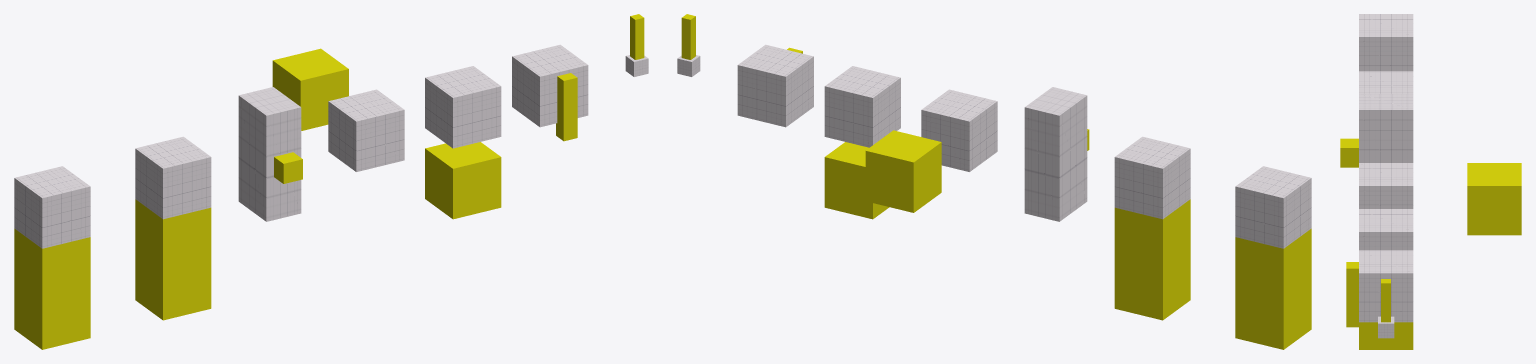
The model's file is JointTypes.gltf.
3 views of the same model, side by side, from view 1: azimuth 30°, elevation 25°; view 2: azimuth 150°, elevation 25°; view 3: azimuth 270°, elevation 25° (orthographic). The views are drawn at different scales.
Parts seen in each view (by area): view 1: Cube.006, Cube.010, Cube.008, Cube, Cube.003, Cube.011, Cube.012, Cube.009, Cube.002, Cube.005, Cube.001, Cube.004 (+3 smaller); view 2: Cube.006, Cube.009, Cube, Cube.003, Cube.012, Cube.010, Cube.008, Cube.002, Cube.005, Cube.001, Cube.004, Cube.011 (+1 smaller); view 3: Cube.009, Cube.006, Cube.012, Cube, Cube.008, Cube.010, Cube.011, Cube.003, Cube.015, Cube.007, Cube.014, Cube.013.
Part boxes in pixels (box(x1,y1,x2,y2)): Cube.006: box(238, 87, 301, 221); Cube.010: box(425, 66, 501, 148); Cube.008: box(328, 89, 404, 171); Cube: box(14, 166, 90, 248); Cube.003: box(135, 136, 211, 219); Cube.011: box(425, 142, 501, 219); Cube.012: box(512, 44, 588, 127); Cube.009: box(272, 48, 348, 130); Cube.002: box(14, 279, 90, 349); Cube.005: box(135, 250, 211, 320); Cube.001: box(14, 228, 90, 299); Cube.004: box(135, 199, 211, 269); Cube.006: box(1024, 87, 1087, 221); Cube.009: box(865, 130, 941, 212); Cube: box(1235, 166, 1311, 248); Cube.003: box(1114, 136, 1190, 219); Cube.012: box(737, 44, 813, 127); Cube.010: box(824, 66, 900, 147); Cube.008: box(921, 89, 997, 171); Cube.002: box(1235, 279, 1311, 349); Cube.005: box(1114, 250, 1190, 320); Cube.001: box(1235, 228, 1311, 299); Cube.004: box(1114, 199, 1190, 269); Cube.011: box(824, 142, 889, 219); Cube.009: box(1467, 163, 1521, 235); Cube.006: box(1359, 93, 1413, 162); Cube.012: box(1359, 250, 1413, 322); Cube: box(1359, 14, 1413, 71); Cube.008: box(1359, 163, 1413, 208); Cube.010: box(1359, 209, 1413, 250); Cube.011: box(1359, 322, 1413, 349); Cube.003: box(1359, 71, 1413, 93); Cube.015: box(1346, 262, 1361, 327); Cube.007: box(1340, 138, 1358, 167); Cube.014: box(1381, 279, 1390, 322); Cube.013: box(1378, 316, 1394, 338).
Bounding box in the file's own units: 6.38 × 1.78 × 1.67.
Materials: 2 (1 with a texture image).
